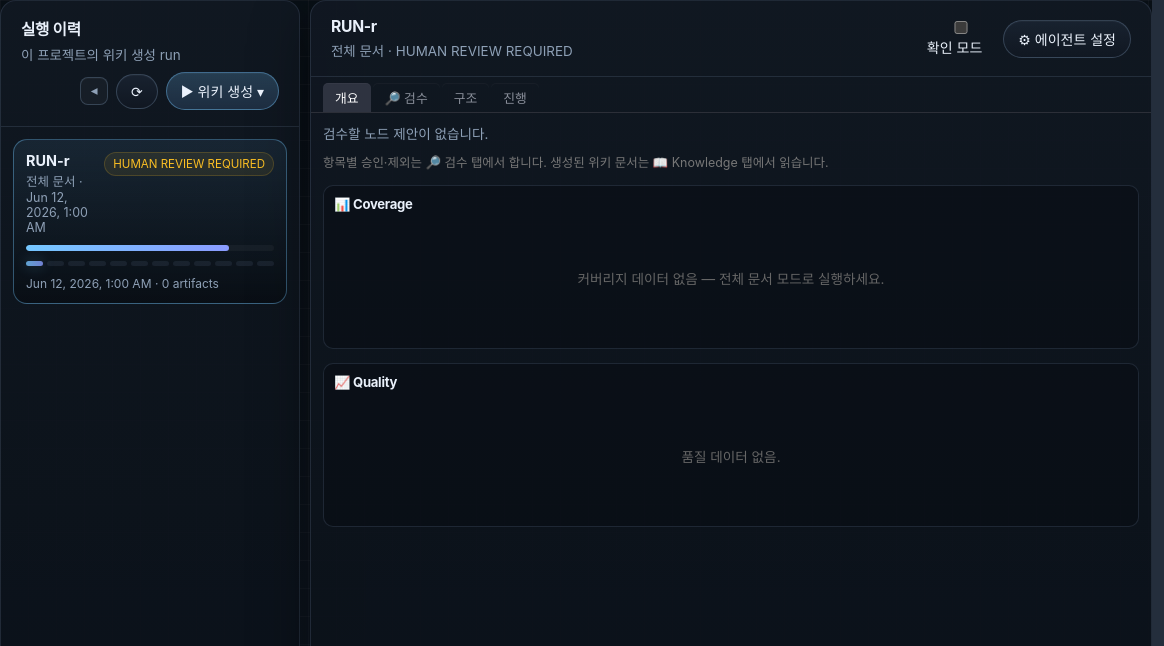
WikiGenDashboard › settings panel is hidden until ⚙ 버튼 click
This screenshot has width=1164, height=646.
Expected: the text "하니스 구조" is not shown
Click the button "⚙ 에이전트 설정" at (1067, 38), box [1003,20,1131,58]
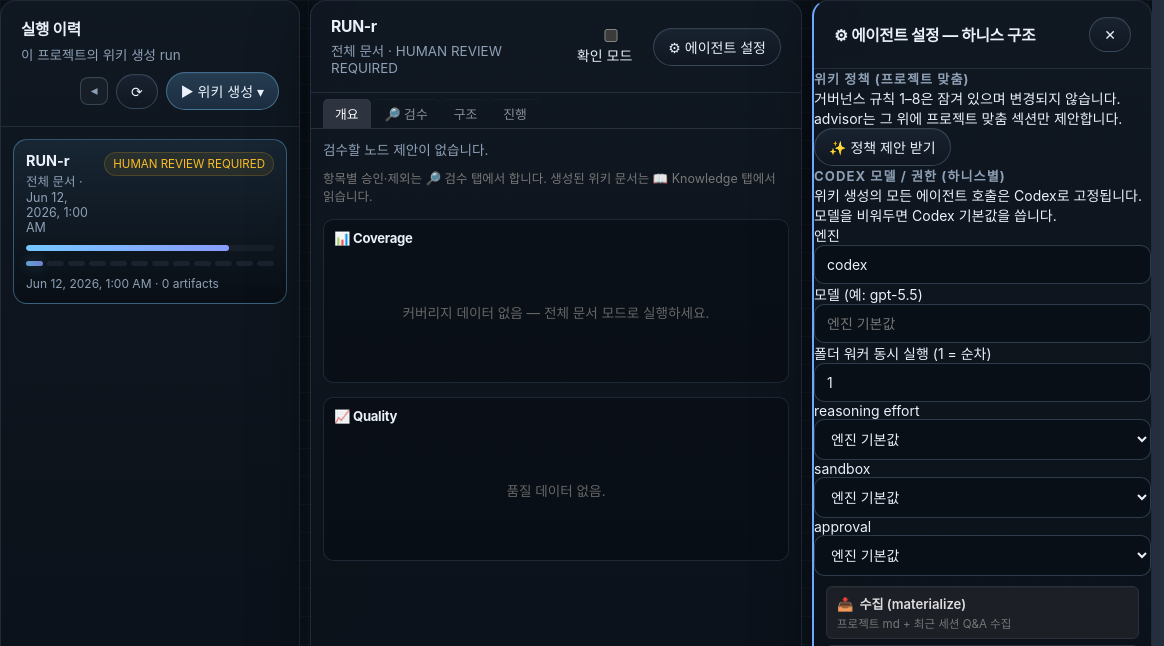
Expected: the heading "⚙ 에이전트 설정 — 하니스 구조" is shown, [834,23,1035,46]
